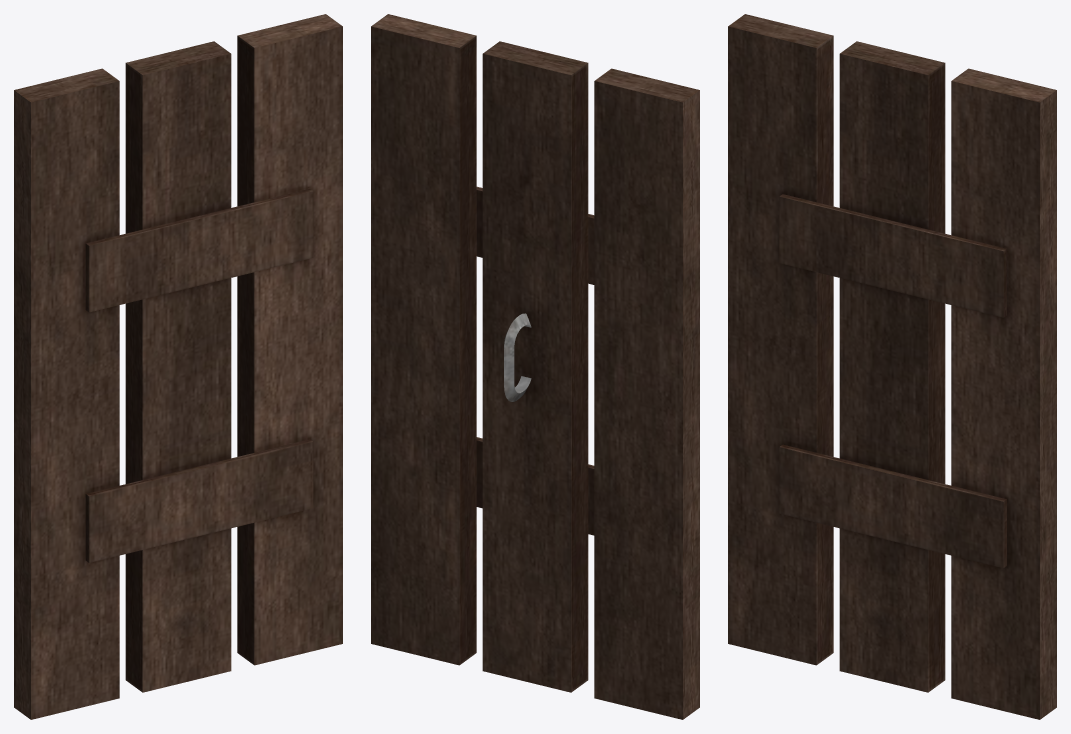
File: Shield.fbx
The picture shows the model from 3 angles, left to right: view 1: azimuth 30°, elevation 25°; view 2: azimuth 150°, elevation 25°; view 3: azimuth 330°, elevation 25°; orthographic projection.
Visible parts, largest first — view 1: Shield; view 2: Shield; view 3: Shield.
Boxes of the visible parts, x1,y1,x2,y2 form: Shield: (14,14,342,719); Shield: (371,14,699,719); Shield: (728,14,1056,719).
Bounding box in the file's own units: 10.57 × 2.51 × 20.
2 materials, 2 textured.
